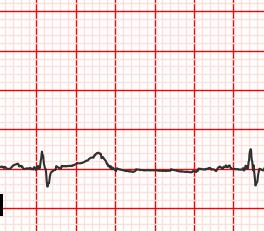LVH: (69, 148, 119, 174)
Poor R Progression: (37, 150, 48, 171)
ST Depression: (35, 165, 58, 189)
